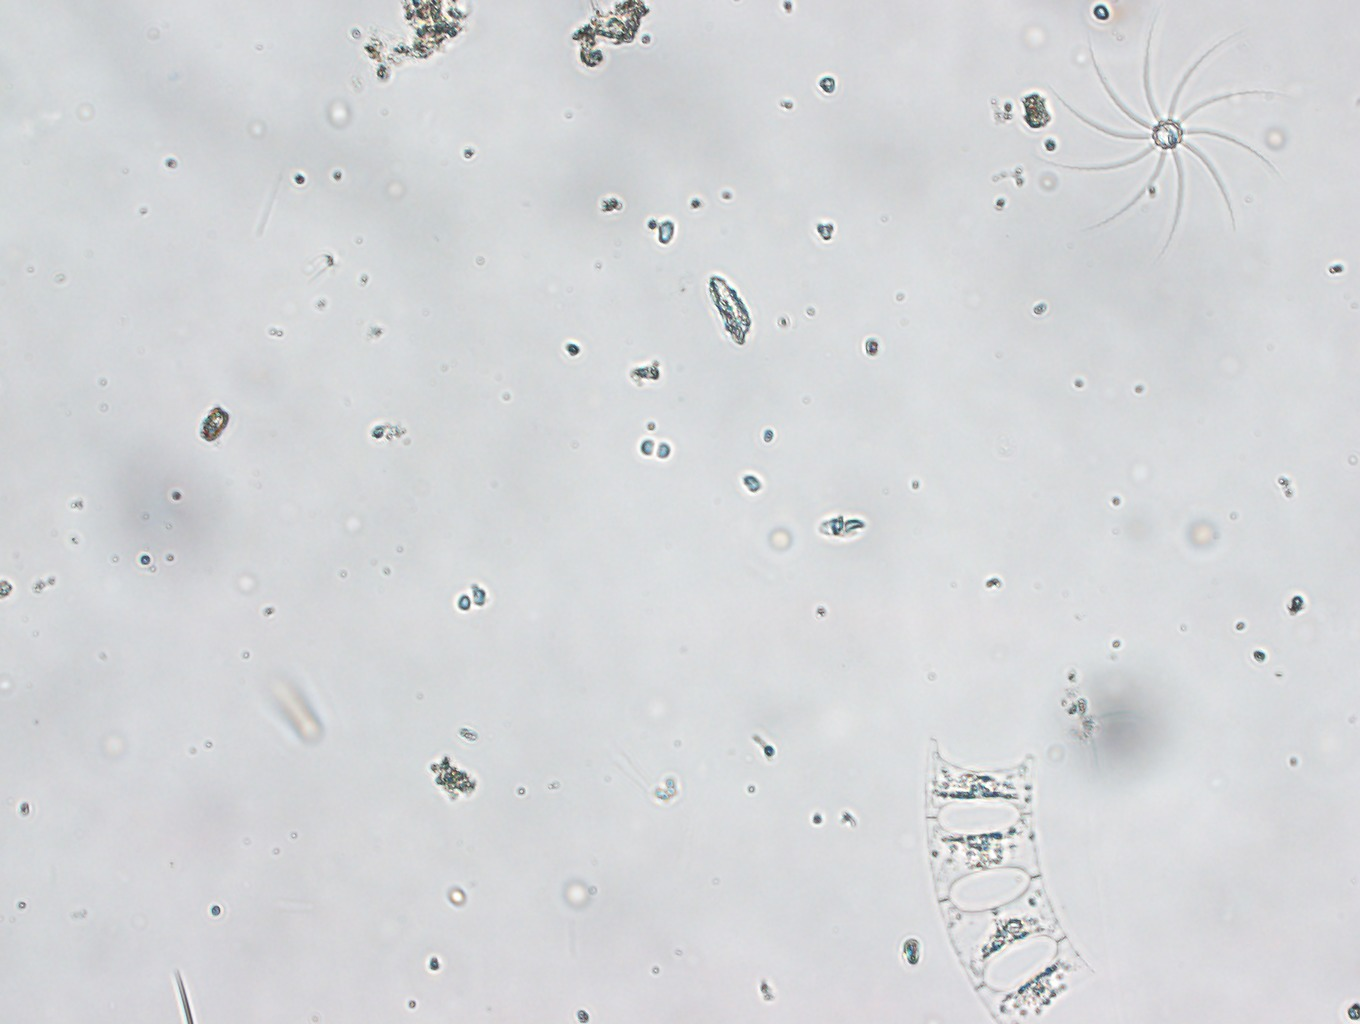bacteriastrum: (1037, 25, 1287, 273)
eucampia: (916, 736, 1085, 1024)
